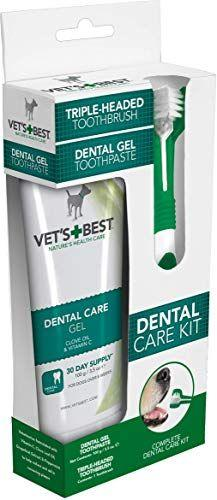toothpaste: (13, 156, 138, 463)
